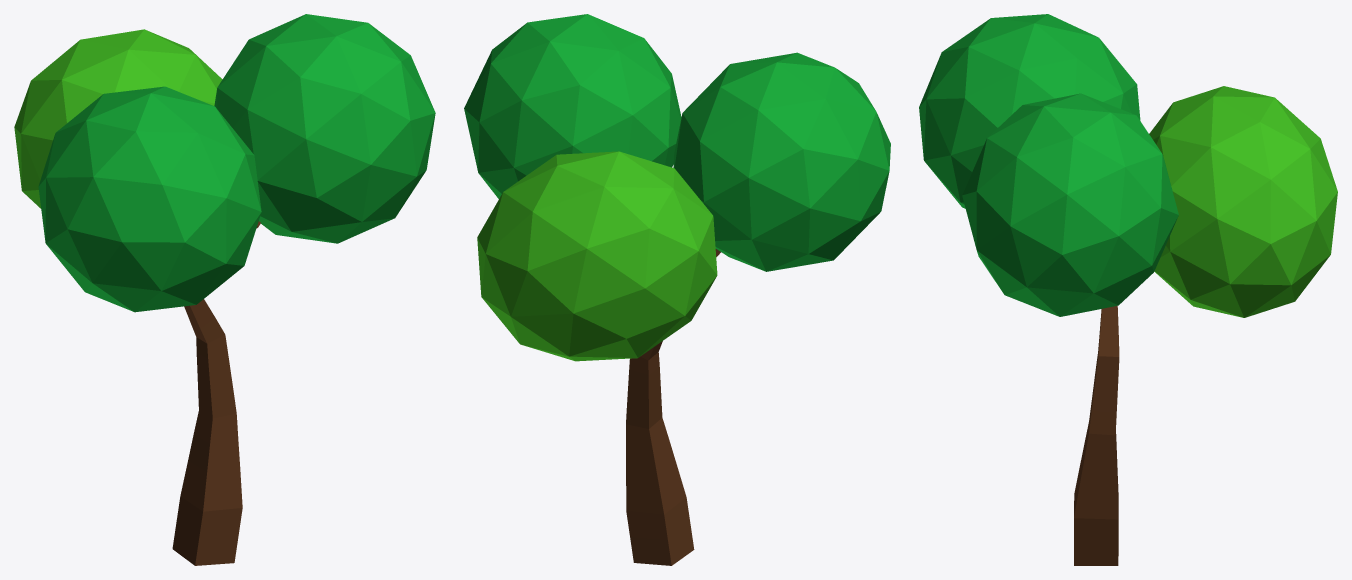
File: tree3.glb
3 views of the same model, side by side, from view 1: azimuth 30°, elevation 25°; view 2: azimuth 150°, elevation 25°; view 3: azimuth 270°, elevation 25° (orthographic). The views are drawn at different scales.
Visible parts, largest first — view 1: Icosphere.002; view 2: Icosphere.002; view 3: Icosphere.002.
Part boxes in pixels (x1,y1,x2,y2): Icosphere.002: (14, 14, 435, 565); Icosphere.002: (464, 14, 890, 565); Icosphere.002: (919, 14, 1337, 565).
Size of the model in its own units: 8.14 by 10.31 by 7.83.
